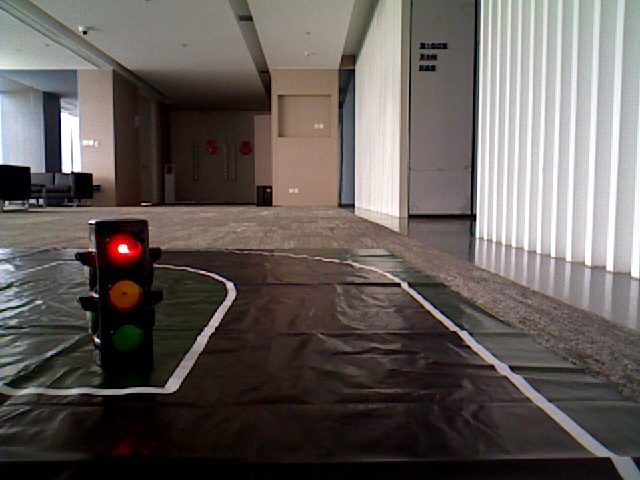red: (94, 223, 151, 365)
